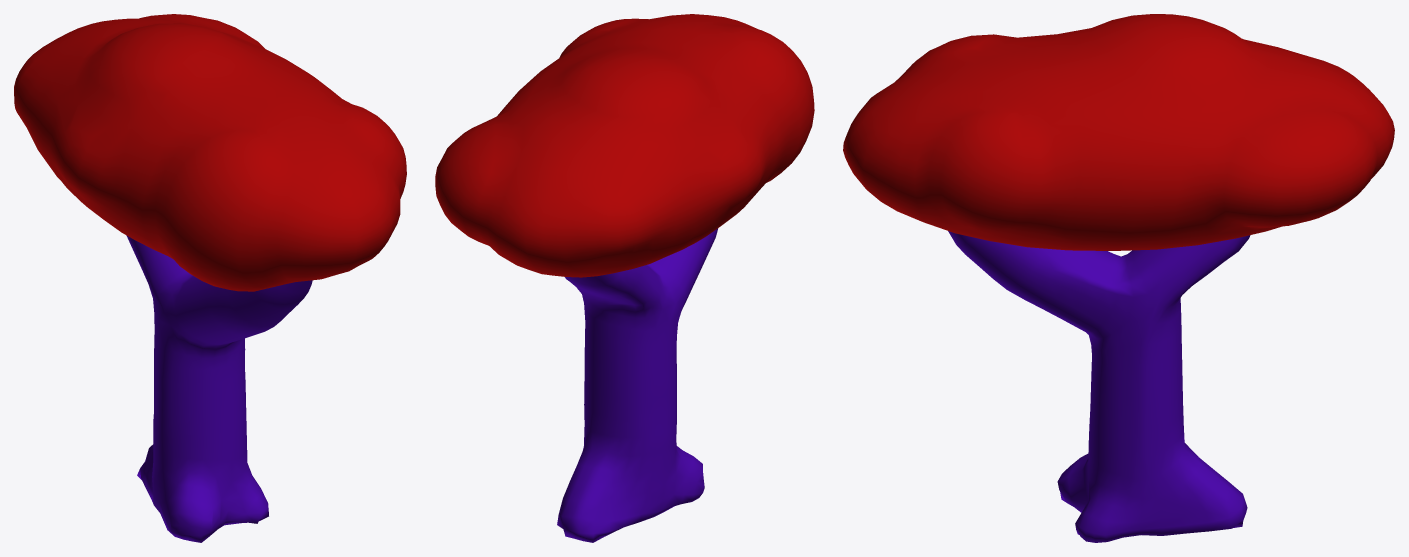
File: Tree_Example.fbx
3 renders of one model, left to right at view 1: azimuth 30°, elevation 25°; view 2: azimuth 150°, elevation 25°; view 3: azimuth 270°, elevation 25°, orthographic. The views are drawn at different scales.
Parts seen in each view (by area): view 1: Tree; view 2: Tree; view 3: Tree.
Boxes of the visible parts, x1,y1,x2,y2 form: Tree: [14, 14, 406, 542]; Tree: [435, 14, 814, 542]; Tree: [843, 14, 1394, 542].
Size of the model in its own units: 14.71 by 25.15 by 25.76.
